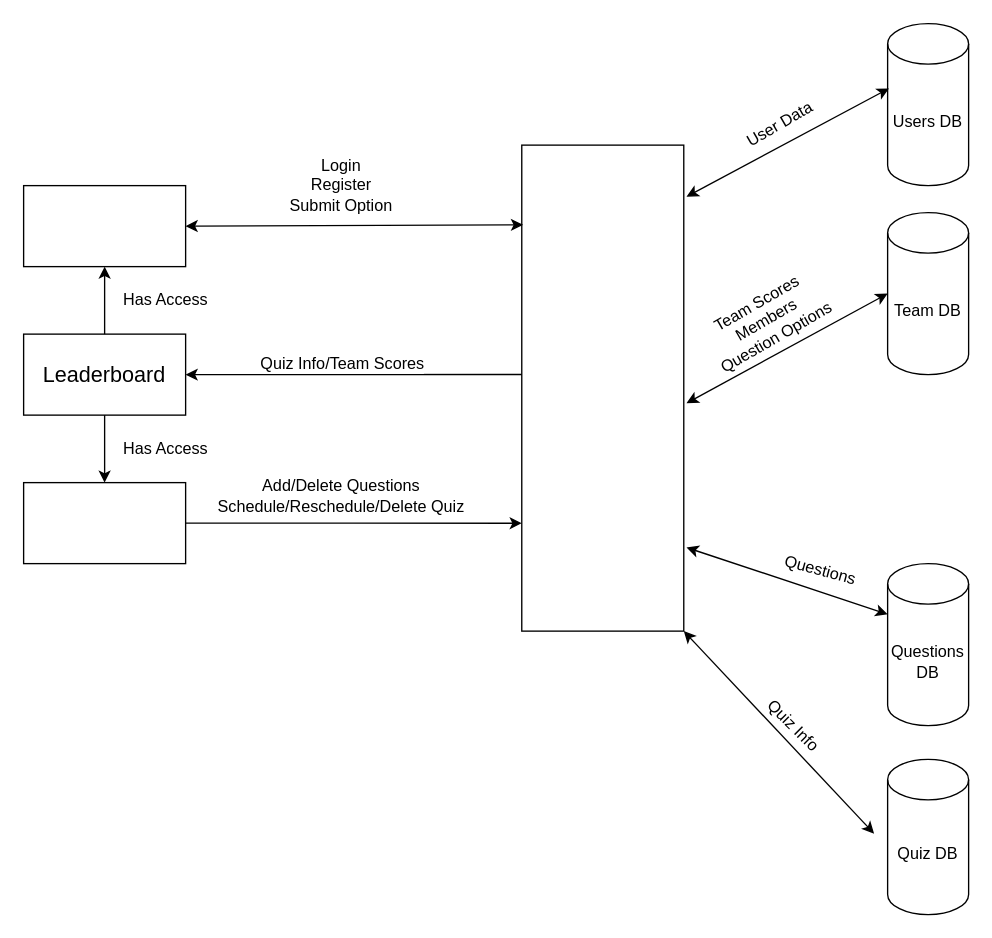
Some shapes in this 992 by 938 pixel diagram are drawn without their labels. Each missing label, with the centre of its shape:
"Admin" goes at point 104,522.
"Quiz Service" goes at point 602,387.
"Users" goes at point 104,225.
